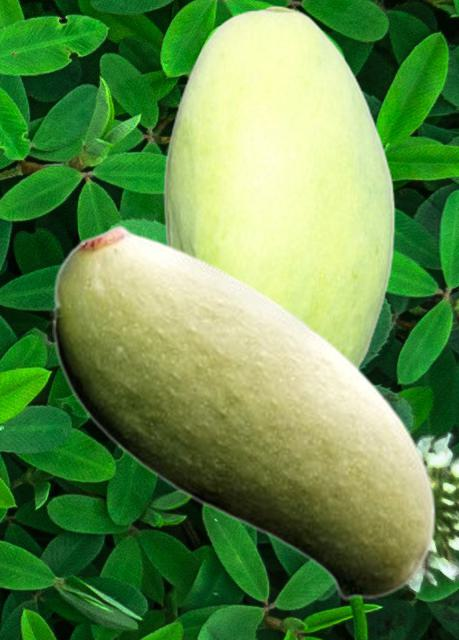green_mango: (52, 223, 435, 600), (163, 5, 394, 367)
